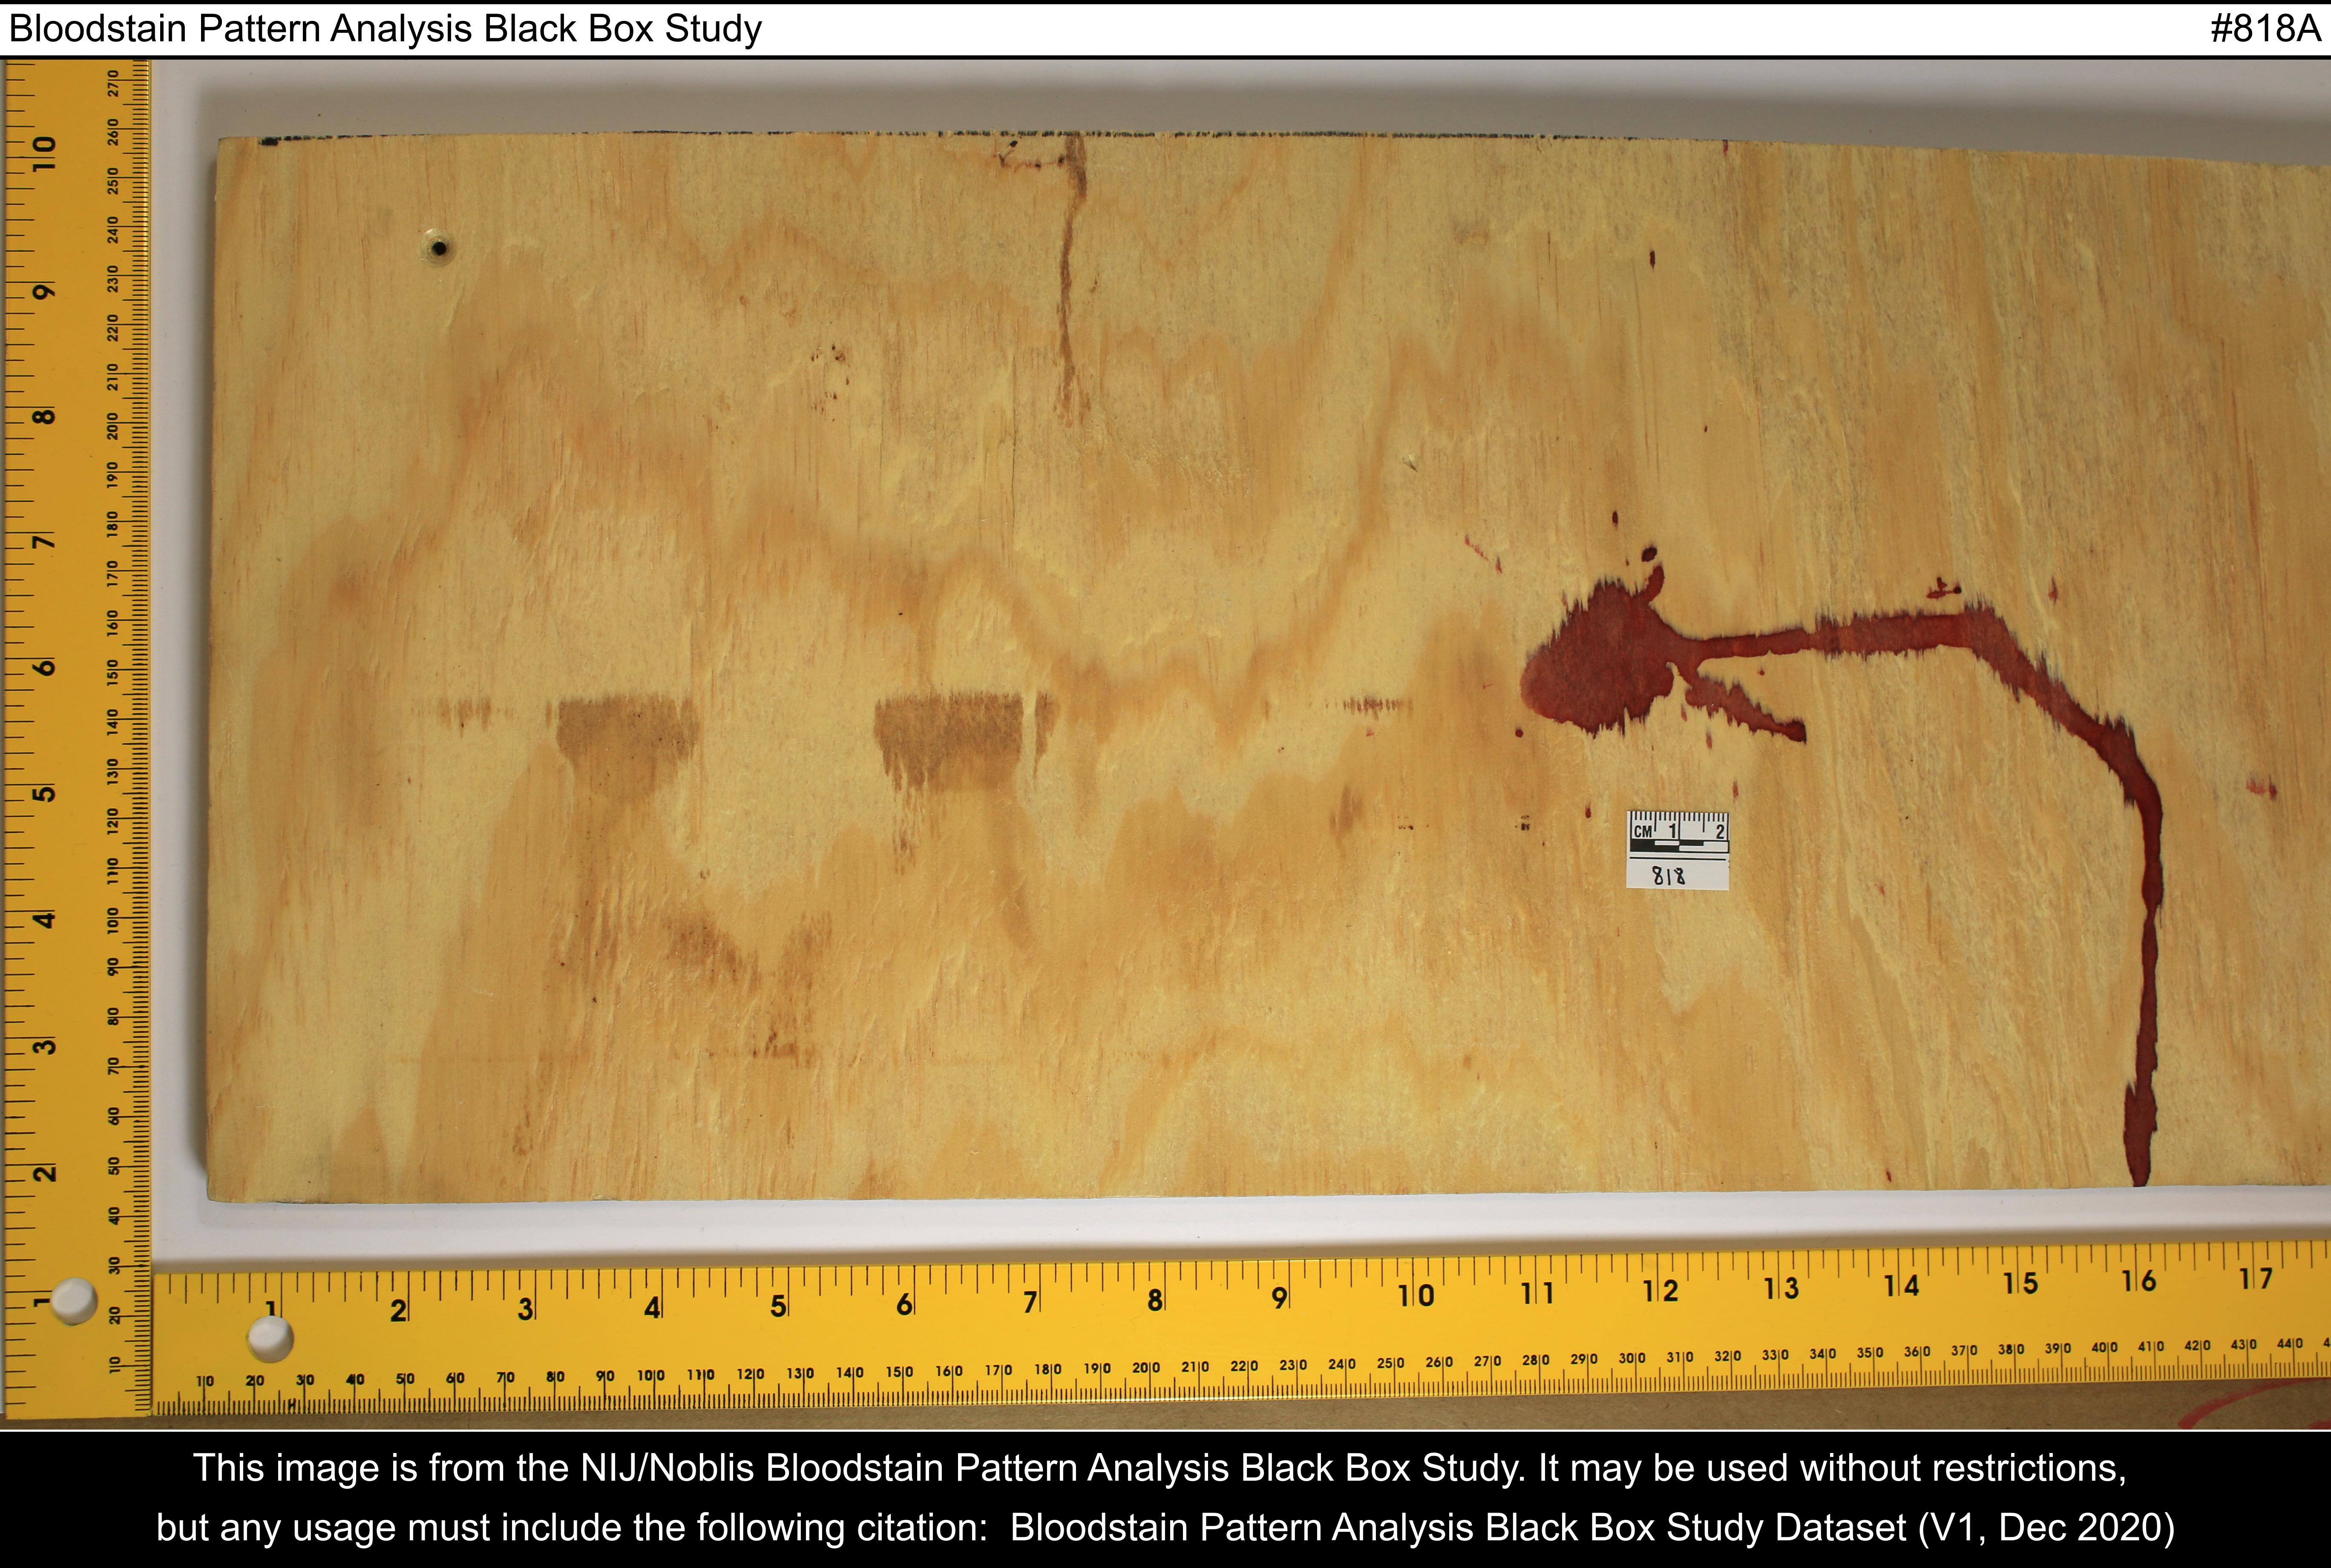Passive: (1265, 507, 2278, 1195)
